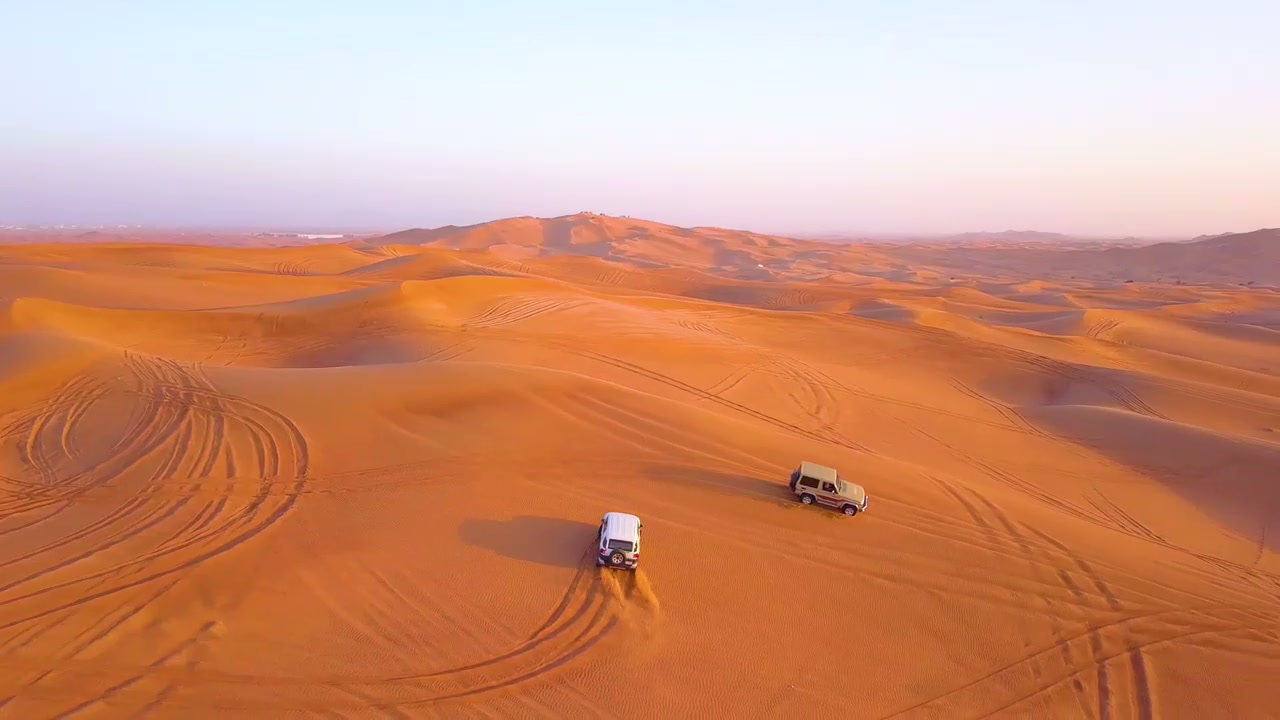vehicle_track: (0, 353, 307, 693), (113, 548, 658, 711), (0, 354, 307, 628), (976, 462, 1279, 596), (541, 338, 864, 451), (888, 414, 1110, 527), (808, 364, 1037, 435), (28, 399, 182, 503), (951, 378, 1121, 468), (995, 596, 1115, 719), (0, 374, 106, 495), (1000, 347, 1168, 419), (930, 476, 1041, 579), (765, 354, 869, 451), (951, 377, 1055, 439), (1088, 489, 1165, 542), (1168, 379, 1279, 414), (464, 296, 585, 328), (674, 313, 740, 341), (705, 364, 759, 396), (272, 259, 314, 276), (1086, 318, 1120, 338), (593, 269, 628, 285)
